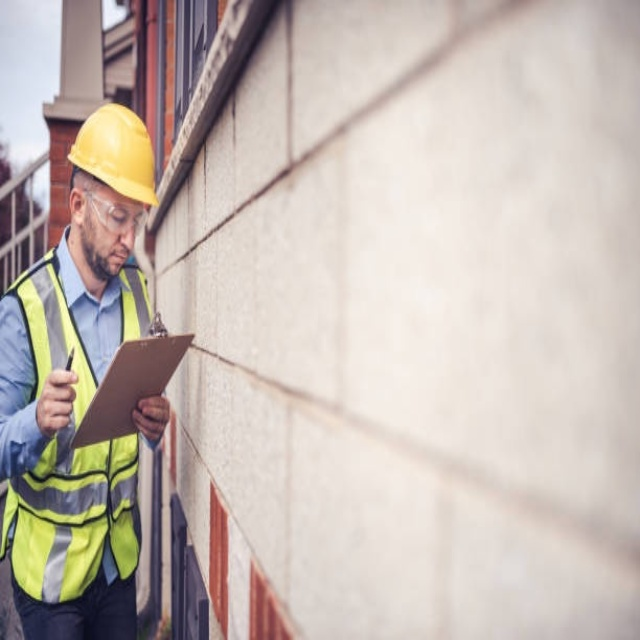Gafas: (80, 185, 148, 235)
Sin_guantes: (37, 368, 79, 438), (131, 394, 170, 444)
Sin_mascara: (100, 243, 133, 276)
